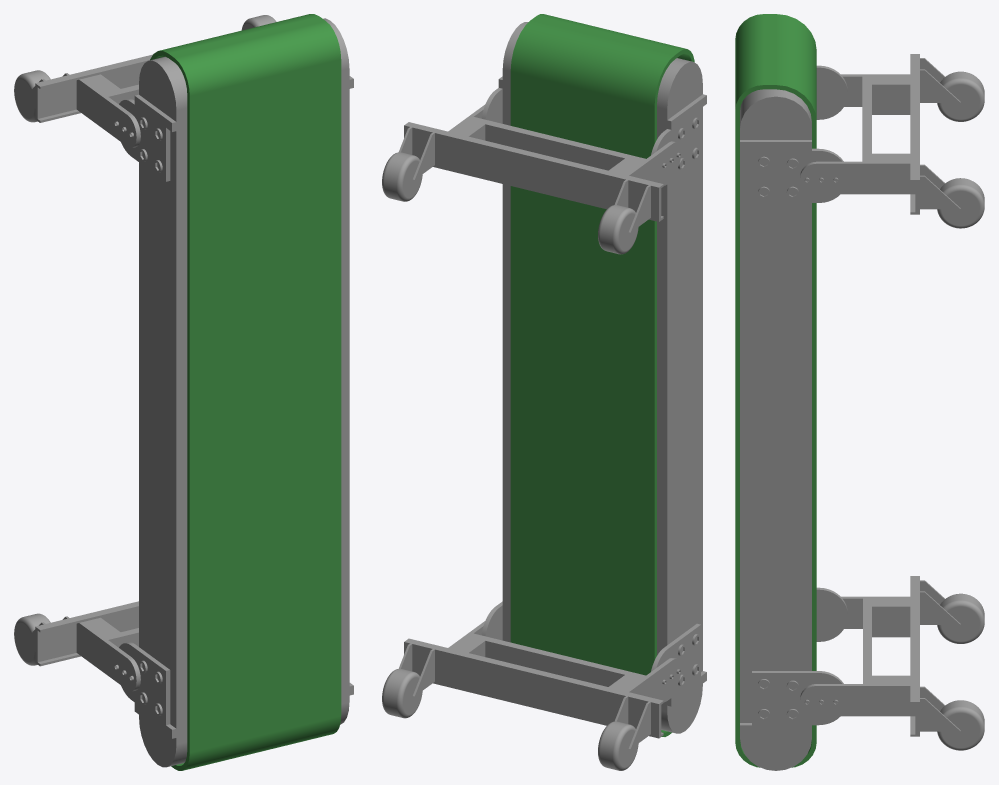
File: Conveyor Belt Shortened.obj
3 renders of one model, left to right at view 1: azimuth 30°, elevation 25°; view 2: azimuth 150°, elevation 25°; view 3: azimuth 270°, elevation 25°, orthographic. The views are drawn at different scales.
Visible parts, largest first — view 1: Body11, Body1, Body44, Body4, Body7, Body49, Body59, Body24, Body64, Body39; view 2: Body11, Body1, Body49, Body7, Body4, Body44, Body47, Body64, Body8, Body39, Body59, Body24 (+2 smaller); view 3: Body1, Body11, Body4, Body44, Body58, Body23, Body47, Body8, Body64, Body39, Body7, Body49 (+8 smaller).
Part boxes in pixels (x1,y1,x2,y2): Body11: (150, 14, 341, 770); Body1: (139, 18, 349, 767); Body44: (76, 617, 140, 691); Body4: (76, 74, 140, 147); Body7: (35, 54, 152, 122); Body49: (35, 601, 138, 666); Body59: (119, 642, 170, 724); Body24: (119, 99, 170, 181); Body64: (14, 613, 50, 665); Body39: (14, 70, 50, 122); Body11: (510, 14, 694, 736); Body1: (502, 22, 702, 733); Body49: (404, 638, 663, 738); Body7: (404, 122, 663, 221); Body4: (448, 104, 681, 182); Body44: (448, 621, 681, 699); Body47: (382, 668, 422, 718); Body64: (598, 721, 638, 770); Body8: (382, 152, 422, 201); Body39: (598, 205, 638, 254); Body59: (651, 623, 700, 702); Body24: (651, 108, 700, 185); Body1: (740, 89, 811, 770); Body11: (735, 14, 816, 767); Body4: (800, 74, 915, 194); Body44: (800, 596, 915, 716); Body58: (752, 671, 843, 725); Body23: (752, 148, 843, 202); Body47: (937, 700, 984, 750); Body8: (937, 178, 984, 228); Body64: (937, 593, 984, 643); Body39: (937, 71, 984, 121); Body7: (910, 54, 919, 214); Body49: (910, 576, 919, 736).
Size of the model in its own units: 62 by 157 by 52.
